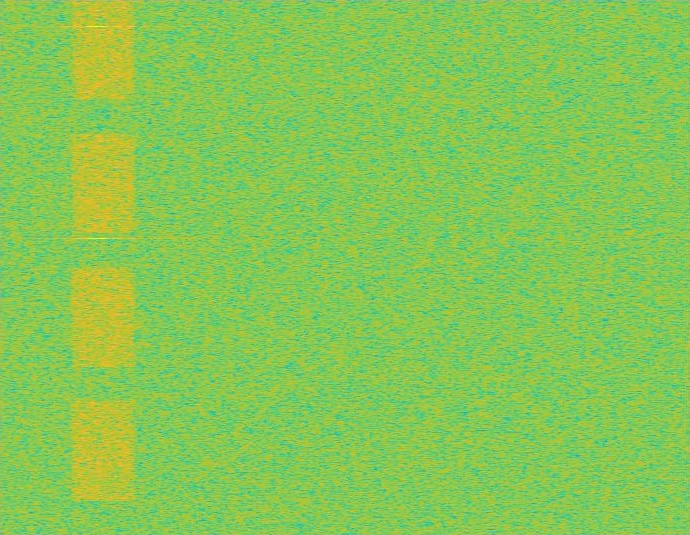5G: (69, 0, 138, 534)
Radar: (91, 0, 104, 534)
